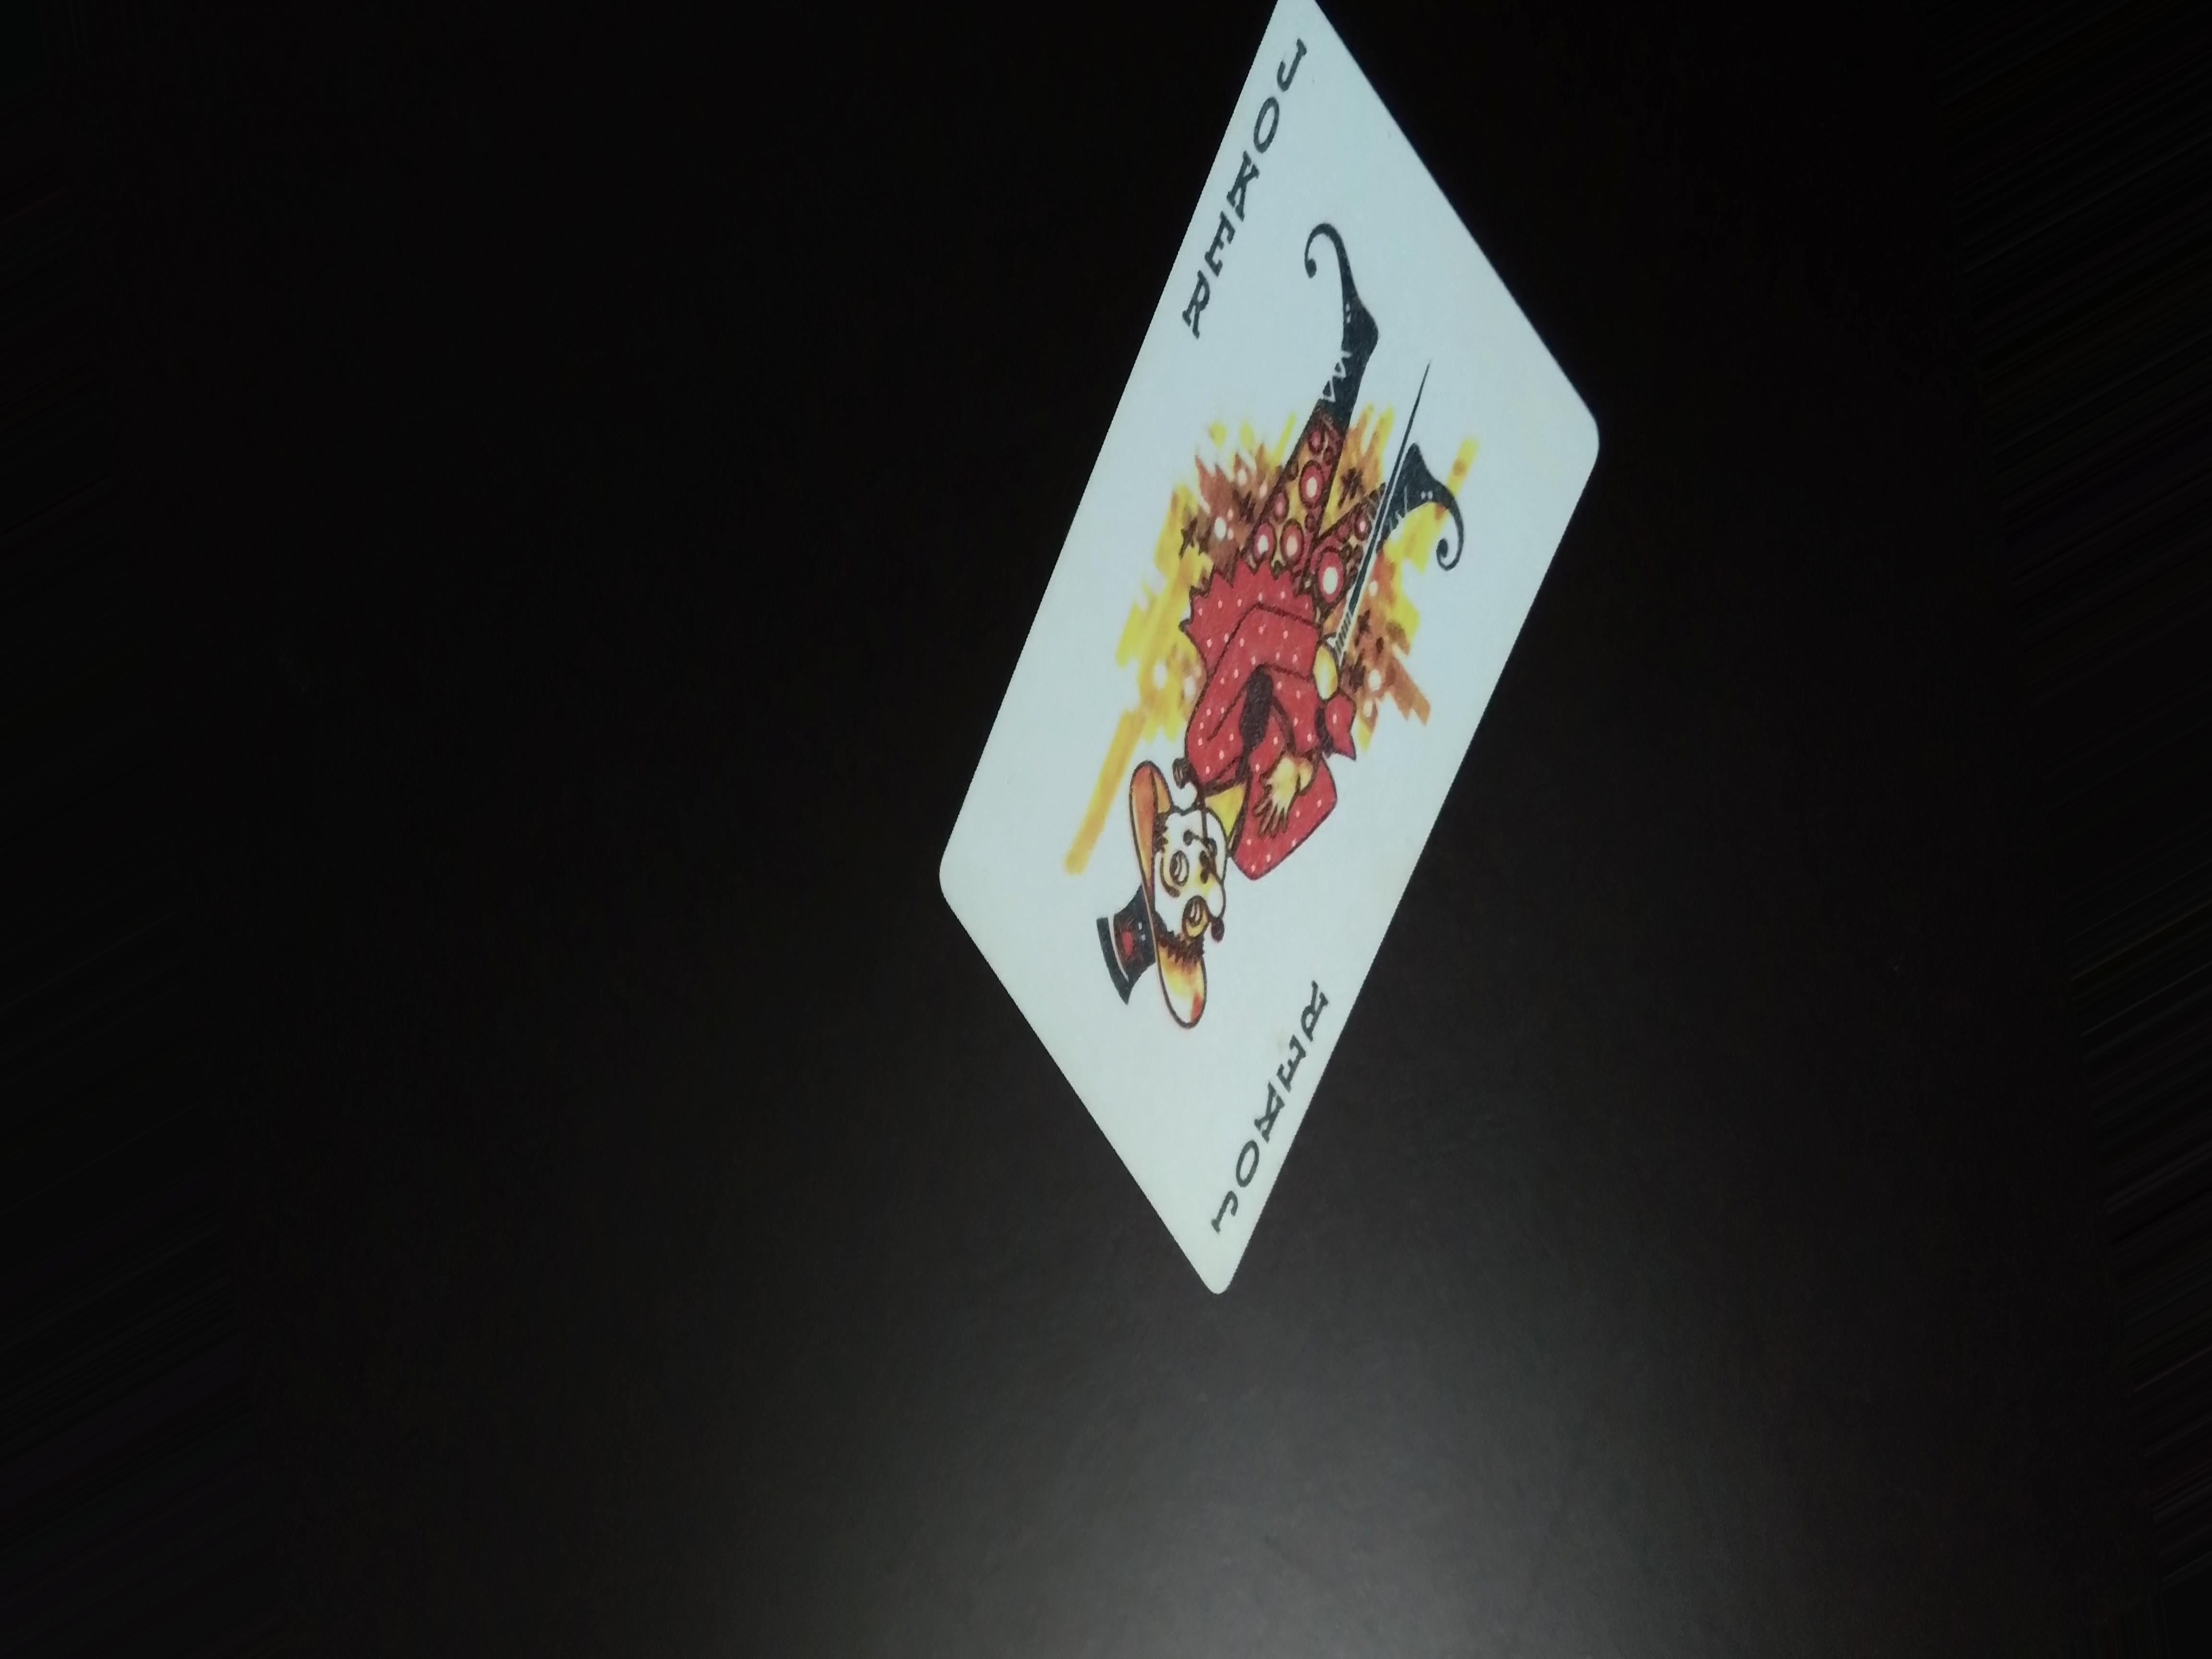JOKER: (1172, 40, 1313, 357)
